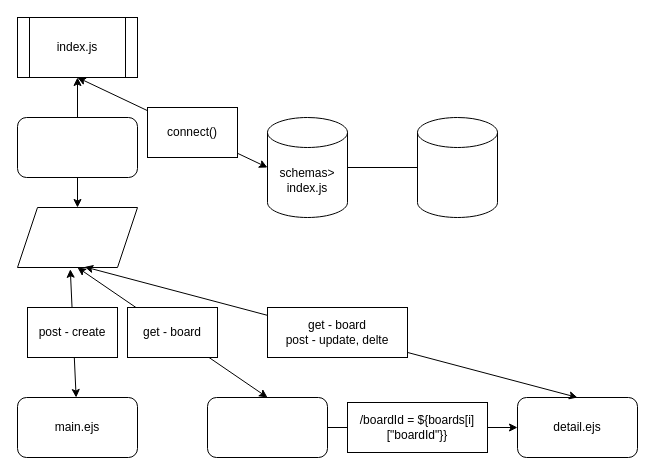
The diagram is 655 pixels wide and 475 high, and some of its shapes have lost their labels. The shapes that lost their labels are listed below. From the top down, each one's centre as x and y in pixels, then its label:
point (77, 147): app.use("/api", [boardRouter]);
point (457, 167): schemas> board.js
point (77, 237): routers> board.js
point (267, 427): search.ejs
